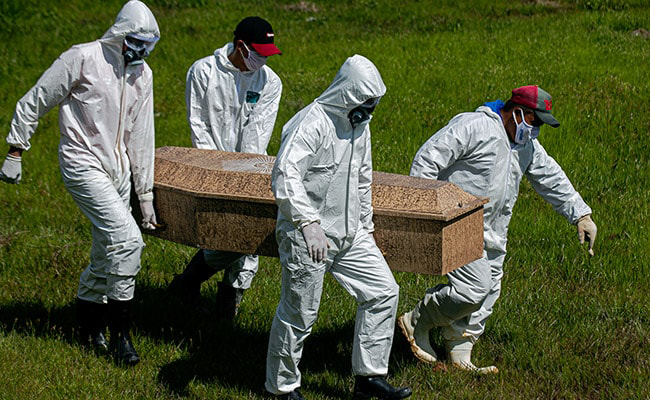Coverall: (273, 110, 391, 368), (443, 119, 546, 376), (57, 39, 153, 299), (187, 48, 279, 156)
Gloves: (134, 190, 169, 232), (301, 218, 329, 262), (1, 145, 26, 184), (574, 209, 597, 251)
